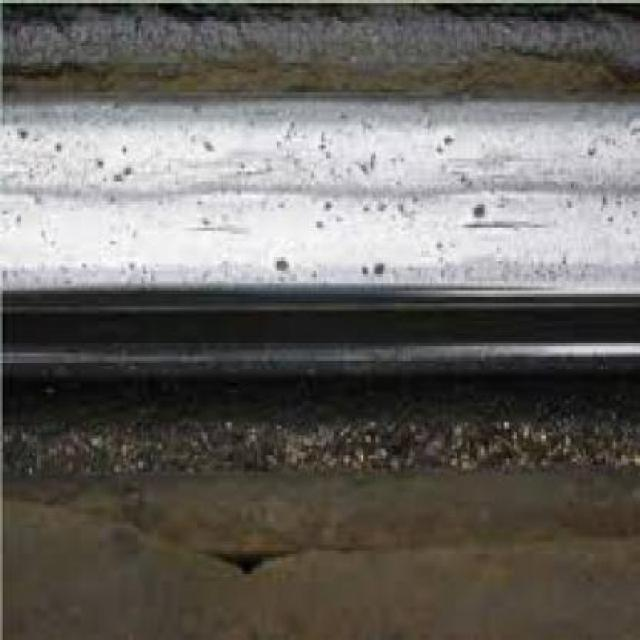defective: (0, 55, 640, 504)
